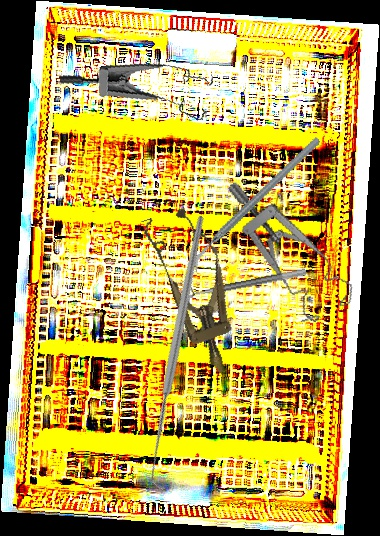Chopper: (164, 136, 348, 273)
Fixation Ring: (179, 258, 307, 300)
Hook Surgical: (45, 213, 316, 492)
Speculum: (226, 158, 359, 335), (137, 201, 254, 383), (59, 44, 221, 147)
